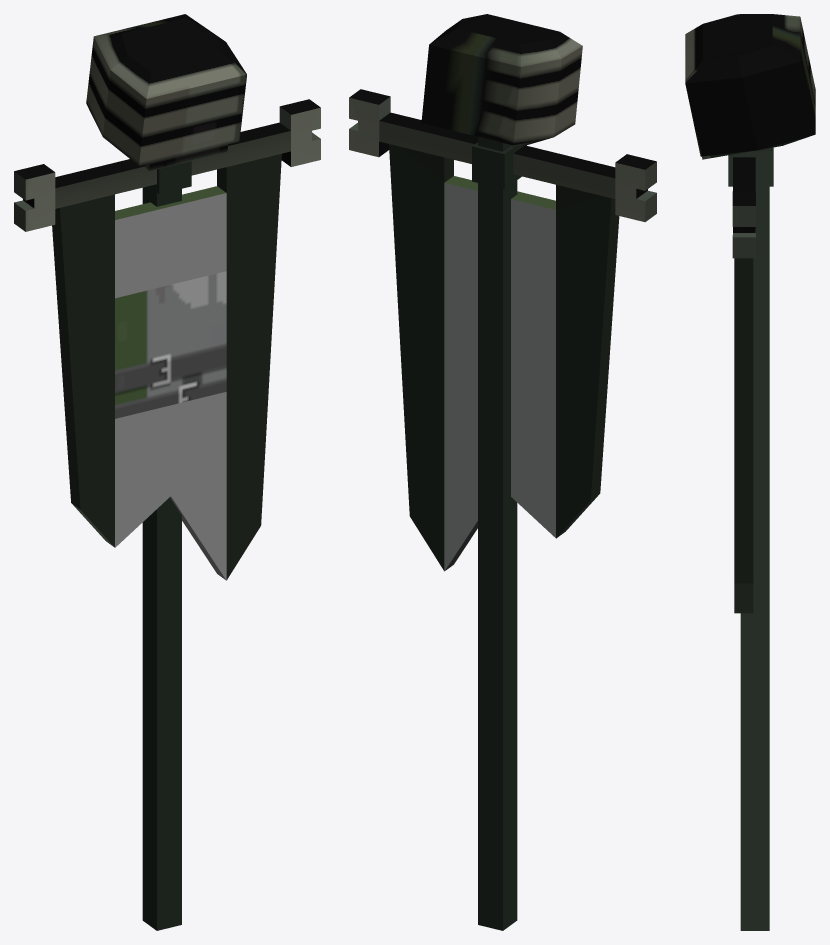
Rendered from SF_Prop_Flag_08.glb.
3 renders of one model, left to right at view 1: azimuth 30°, elevation 25°; view 2: azimuth 150°, elevation 25°; view 3: azimuth 270°, elevation 25°, orthographic.
Visible parts, largest first — view 1: SF_Prop_Flag_08; view 2: SF_Prop_Flag_08; view 3: SF_Prop_Flag_08.
Boxes of the visible parts, bbox=[...] form: SF_Prop_Flag_08: bbox=[14, 14, 320, 930]; SF_Prop_Flag_08: bbox=[349, 14, 656, 930]; SF_Prop_Flag_08: bbox=[685, 14, 815, 930].
Size of the model in its own units: 0.0157 by 0.0452 by 0.00596.
Materials: 1 (1 with a texture image).
